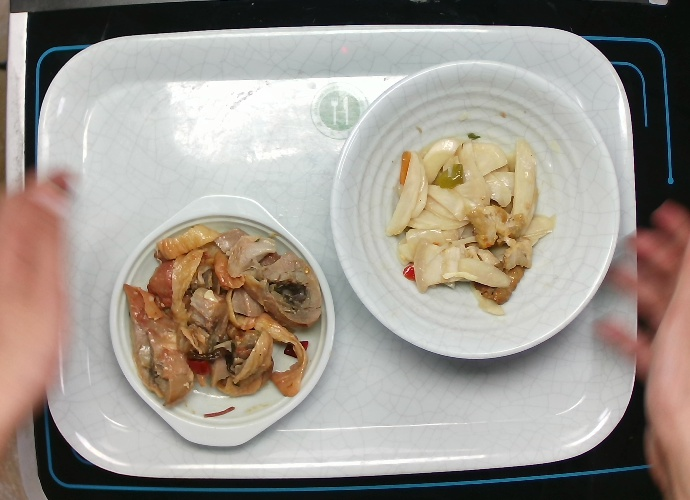JYsf-Shuang_Er_Pan: (107, 192, 338, 449)
JYsf-Xiao_Tang_Wan: (328, 56, 623, 362)
